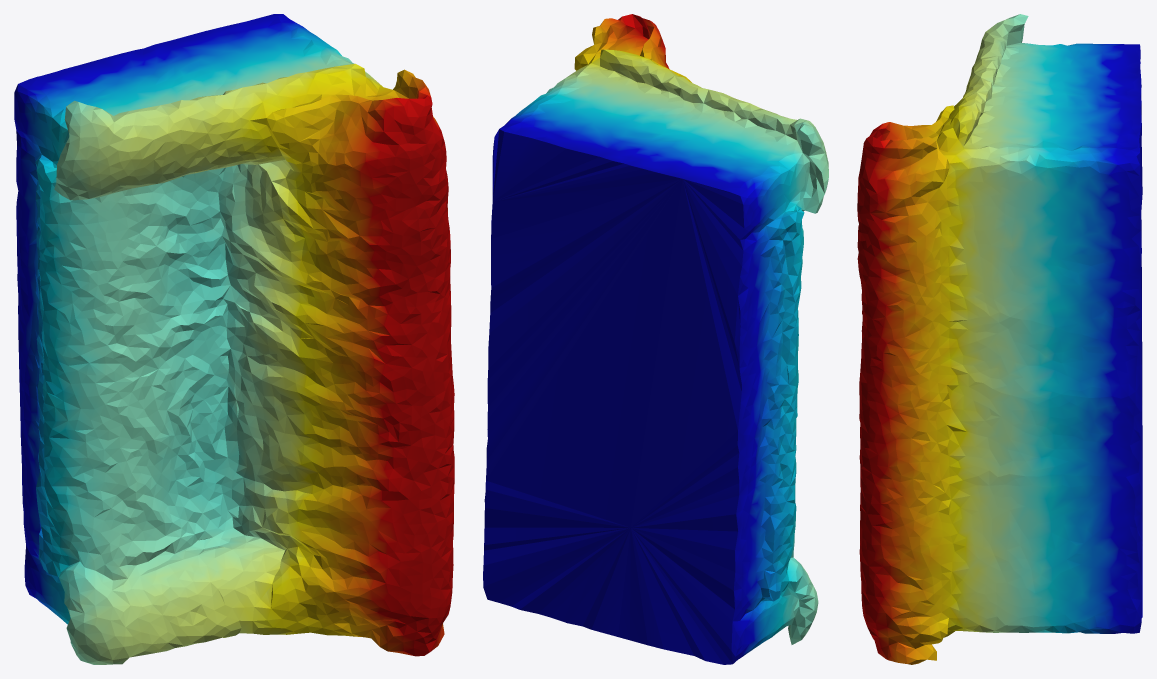
Rendered from sofa.glb.
3 renders of one model, left to right at view 1: azimuth 30°, elevation 25°; view 2: azimuth 150°, elevation 25°; view 3: azimuth 270°, elevation 25°, orthographic. The views are drawn at different scales.
Parts seen in each view (by area): view 1: Sofa.obj; view 2: Sofa.obj; view 3: Sofa.obj.
Part boxes in pixels (<box>): Sofa.obj: <box>14,14,454,664</box>; Sofa.obj: <box>483,14,828,664</box>; Sofa.obj: <box>857,14,1142,664</box>.
Size of the model in its own units: 0.993 by 1.64 by 0.8105.
